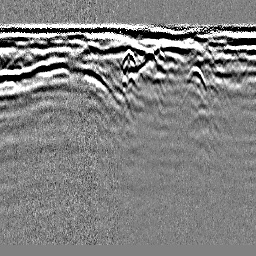cavity: (121, 45, 136, 67)
